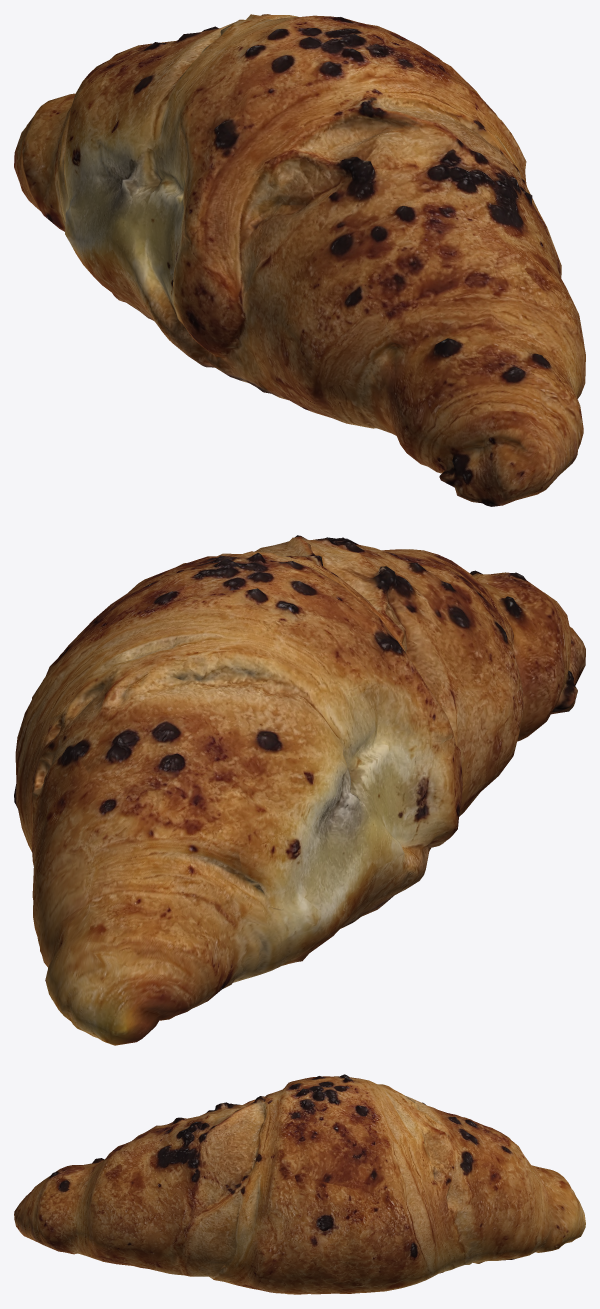
Rendered from croissant.glb.
3 views of the same model, one above another, from view 1: azimuth 30°, elevation 25°; view 2: azimuth 150°, elevation 25°; view 3: azimuth 270°, elevation 25° (orthographic). The views are drawn at different scales.
Visible parts, largest first — view 1: 3DModel_LowPoly_1; view 2: 3DModel_LowPoly_1; view 3: 3DModel_LowPoly_1.
Boxes of the visible parts, left/top/right/bottom form: 3DModel_LowPoly_1: left=14, top=14, right=585, bottom=506; 3DModel_LowPoly_1: left=14, top=535, right=585, bottom=1045; 3DModel_LowPoly_1: left=14, top=1074, right=585, bottom=1294.
Size of the model in its own units: 1.19 by 0.9695 by 2.8.
1 material, 1 textured.
